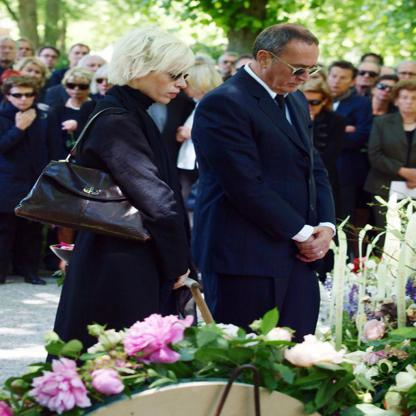face: (263, 41, 320, 92), (137, 61, 188, 105), (298, 93, 323, 119), (328, 68, 353, 93), (10, 87, 36, 110), (356, 64, 380, 86), (301, 70, 323, 93), (68, 78, 90, 99), (22, 64, 43, 86), (374, 81, 397, 101), (398, 65, 416, 88), (399, 90, 416, 113), (70, 47, 89, 66), (237, 60, 255, 80), (41, 50, 59, 69), (98, 78, 117, 96), (1, 40, 16, 61), (88, 61, 106, 77), (220, 57, 238, 73), (16, 42, 32, 59)
